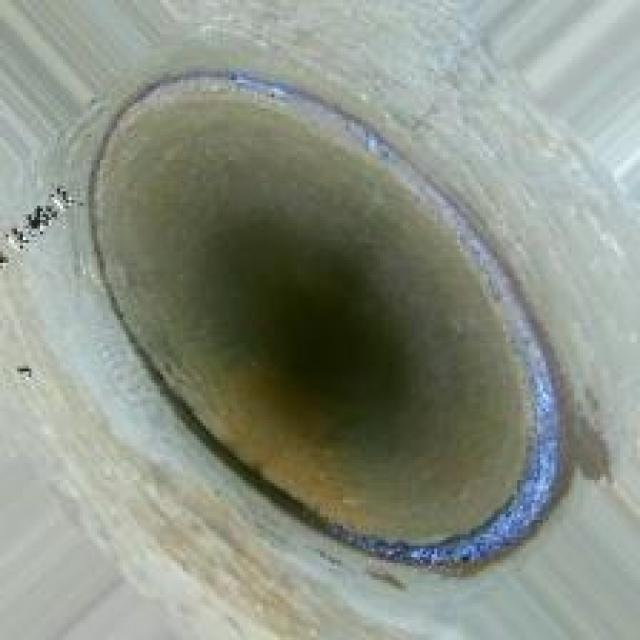joint: (77, 66, 577, 571)
